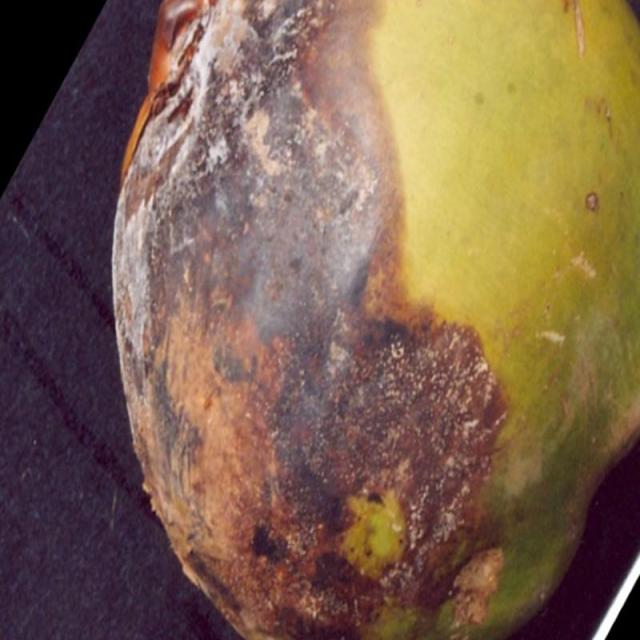damaged: (112, 0, 639, 639)
